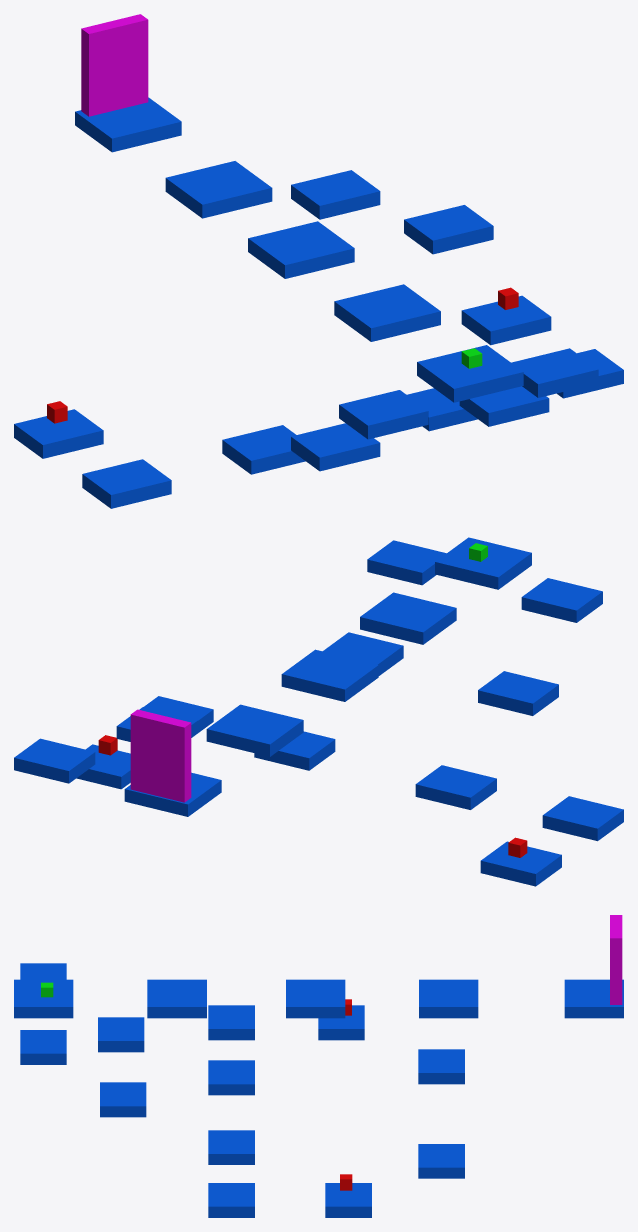
Rendered from level_two.fbx.
3 views of the same model, one above another, from view 1: azimuth 30°, elevation 25°; view 2: azimuth 150°, elevation 25°; view 3: azimuth 270°, elevation 25° (orthographic). The views are drawn at different scales.
Parts seen in each view (by area): view 1: ExitDoor, Cube.002, Cube.011, Cube.001, Cube, Cube.003, Cube.006, Cube.015, Cube.016, Cube.007, Cube.004, Cube.012 (+6 smaller); view 2: ExitDoor, Cube.002, Cube.001, Cube.011, Cube, Cube.006, Cube.015, Cube.009, Cube.007, Cube.004, Cube.010, Cube.012 (+6 smaller); view 3: Cube.011, Cube.001, Cube.002, Cube, Cube.003, Cube.006, Cube.009, Cube.016, Cube.004, Cube.005, Cube.010, Cube.008 (+6 smaller).
Part boxes in pixels (left/top/right/bottom): ExitDoor: left=81, top=14, right=148, bottom=116; Cube.002: left=165, top=161, right=272, bottom=218; Cube.011: left=334, top=284, right=440, bottom=341; Cube.001: left=248, top=221, right=354, bottom=278; Cube: left=417, top=345, right=523, bottom=402; Cube.003: left=75, top=97, right=181, bottom=152; Cube.006: left=82, top=459, right=171, bottom=508; Cube.015: left=404, top=205, right=493, bottom=254; Cube.016: left=291, top=170, right=380, bottom=219; Cube.007: left=339, top=390, right=428, bottom=439; Cube.004: left=291, top=423, right=380, bottom=471; Cube.012: left=14, top=409, right=103, bottom=458; ExitDoor: left=130, top=709, right=191, bottom=802; Cube.002: left=206, top=704, right=303, bottom=756; Cube.001: left=281, top=649, right=378, bottom=701; Cube.011: left=360, top=592, right=456, bottom=644; Cube: left=435, top=537, right=531, bottom=589; Cube.006: left=542, top=796, right=623, bottom=841; Cube.015: left=14, top=738, right=95, bottom=783; Cube.009: left=415, top=765, right=496, bottom=809; Cube.007: left=521, top=578, right=602, bottom=622; Cube.004: left=478, top=671, right=558, bottom=715; Cube.010: left=367, top=540, right=446, bottom=585; Cube.012: left=480, top=841, right=561, bottom=886; Cube.011: left=147, top=979, right=206, bottom=1018; Cube.001: left=286, top=979, right=345, bottom=1018; Cube.002: left=419, top=979, right=478, bottom=1018; Cube: left=14, top=979, right=73, bottom=1018; Cube.003: left=564, top=979, right=623, bottom=1018; Cube.006: left=208, top=1005, right=254, bottom=1040; Cube.009: left=208, top=1060, right=254, bottom=1095; Cube.016: left=418, top=1049, right=464, bottom=1084; Cube.004: left=98, top=1017, right=144, bottom=1052; Cube.005: left=100, top=1082, right=146, bottom=1117; Cube.010: left=20, top=1030, right=66, bottom=1064; Cube.008: left=208, top=1130, right=254, bottom=1164.
Size of the model in its own units: 1943 by 857 by 2486.
